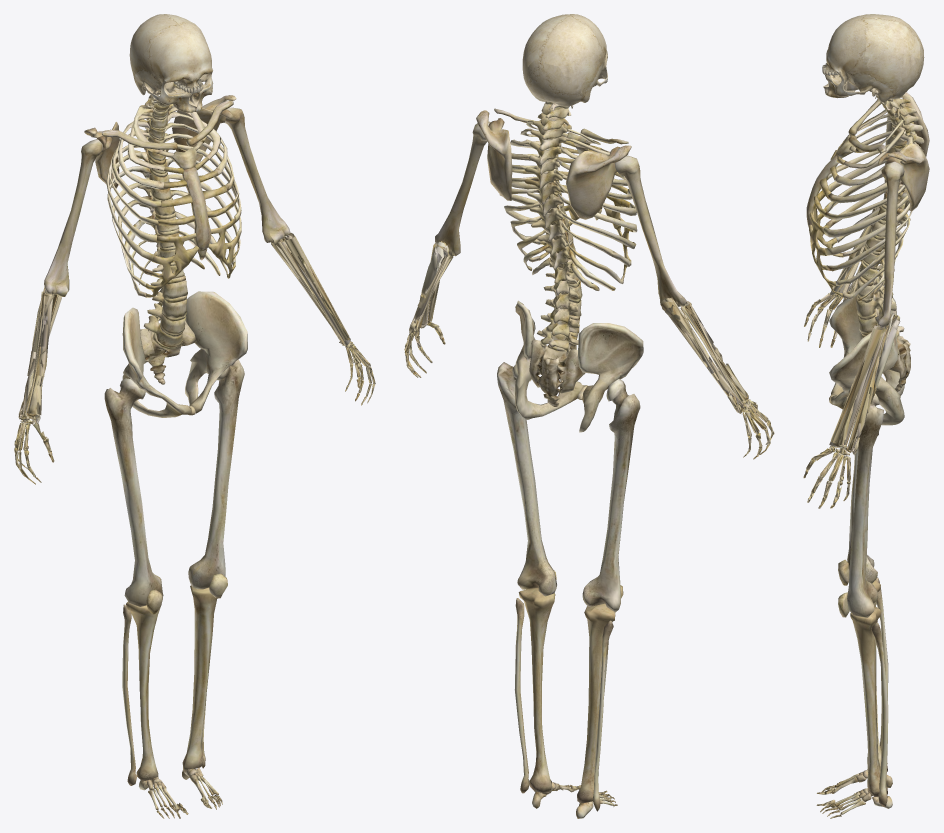
File: skeleton.glb
3 renders of one model, left to right at view 1: azimuth 30°, elevation 25°; view 2: azimuth 150°, elevation 25°; view 3: azimuth 270°, elevation 25°, orthographic. The views are drawn at different scales.
Visible parts, largest first — view 1: F_Coxal_der, F_Femur_izq, F_Femur_der, F_Hueso_frontal, F_Tibia_der, F_Humero_izq, F_Tibia_izq, F_Coxal_izq, F_Humero_der, F_Sternum, F_Radio_izq, F_Radio_der (+9 smaller); view 2: F_Femur_izq, F_Femur_der, F_Coxal_izq, F_Hueso_parietal_izq, F_Tibia_der, F_Tibia_izq, F_Escapula_izq, F_Humero_izq, F_Coxal_der, F_Sacrum, F_Escapula_der, F_Hueso_occipital (+7 smaller); view 3: F_Femur_der, F_Hueso_parietal_der, F_Tibia_der, F_Coxal_der, F_Hueso_frontal, F_Humero_der, F_Radio_der, F_Coxal_izq, F_Escapula_der, F_Cubito_der, F_Perone_der, F_Sternum (+29 smaller).
Part boxes in pixels (x1,y1,x2,y2): F_Coxal_der: (185,291,247,413); F_Femur_izq: (104,378,163,606); F_Femur_der: (188,359,244,589); F_Hueso_frontal: (141,23,212,82); F_Tibia_der: (182,585,217,772); F_Humero_izq: (44,139,103,296); F_Tibia_izq: (126,602,160,781); F_Coxal_izq: (122,307,191,417); F_Humero_der: (224,107,290,245); F_Sternum: (170,147,211,260); F_Radio_izq: (26,292,54,422); F_Radio_der: (284,232,350,347); F_Femur_izq: (582,378,640,612); F_Femur_der: (497,362,556,596); F_Coxal_izq: (578,323,643,432); F_Hueso_parietal_izq: (542,16,600,102); F_Tibia_der: (518,587,555,792); F_Tibia_izq: (577,603,615,803); F_Escapula_izq: (566,145,631,219); F_Humero_izq: (614,155,686,306); F_Coxal_der: (515,300,584,419); F_Sacrum: (529,339,585,396); F_Escapula_der: (476,110,512,200); F_Hueso_occipital: (523,59,585,106); F_Femur_der: (847,393,883,617); F_Hueso_parietal_der: (858,17,920,102); F_Tibia_der: (850,606,887,796); F_Coxal_der: (829,332,904,425); F_Hueso_frontal: (826,14,870,76); F_Humero_der: (875,161,904,327); F_Radio_der: (829,325,885,448); F_Coxal_izq: (829,284,904,397); F_Escapula_der: (878,143,929,211); F_Cubito_der: (847,313,900,454); F_Perone_der: (871,622,888,806); F_Sternum: (806,136,853,227).
Bounding box in the file's own units: 0.7173 × 1.51 × 0.2198.
14 materials, 14 textured.
